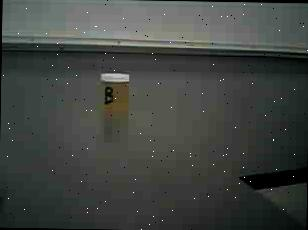Bottle B: (87, 66, 140, 132)
